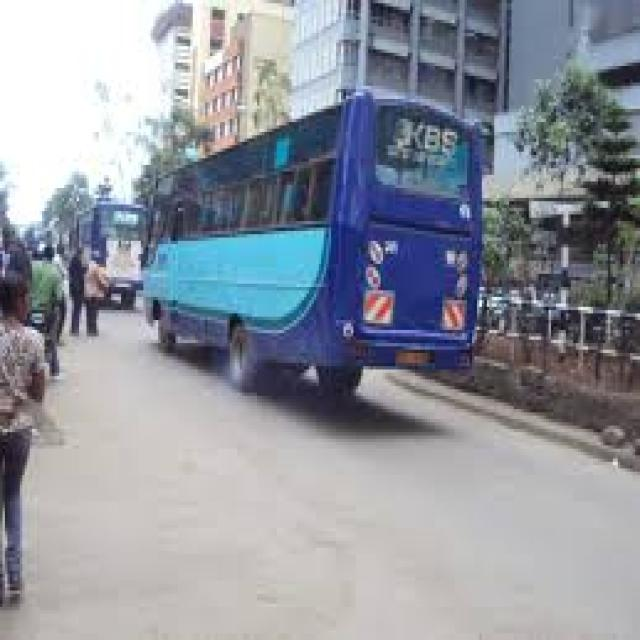bus: (134, 35, 524, 448)
